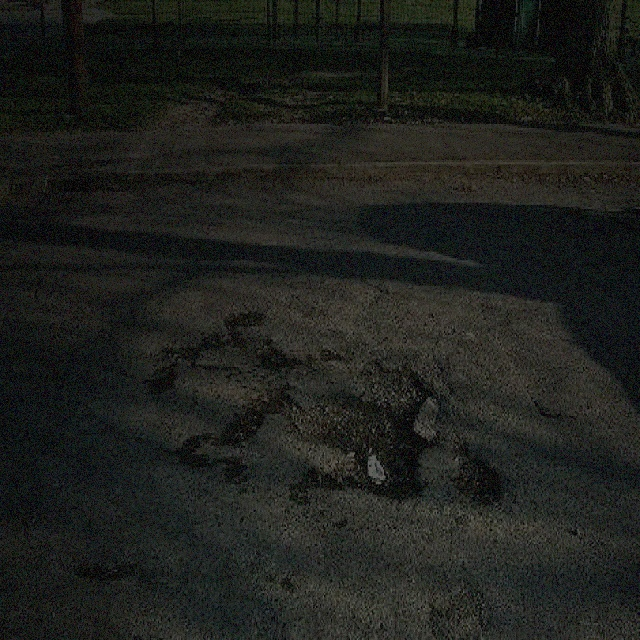pothole: (292, 352, 437, 503), (215, 382, 290, 444), (447, 446, 505, 505)
